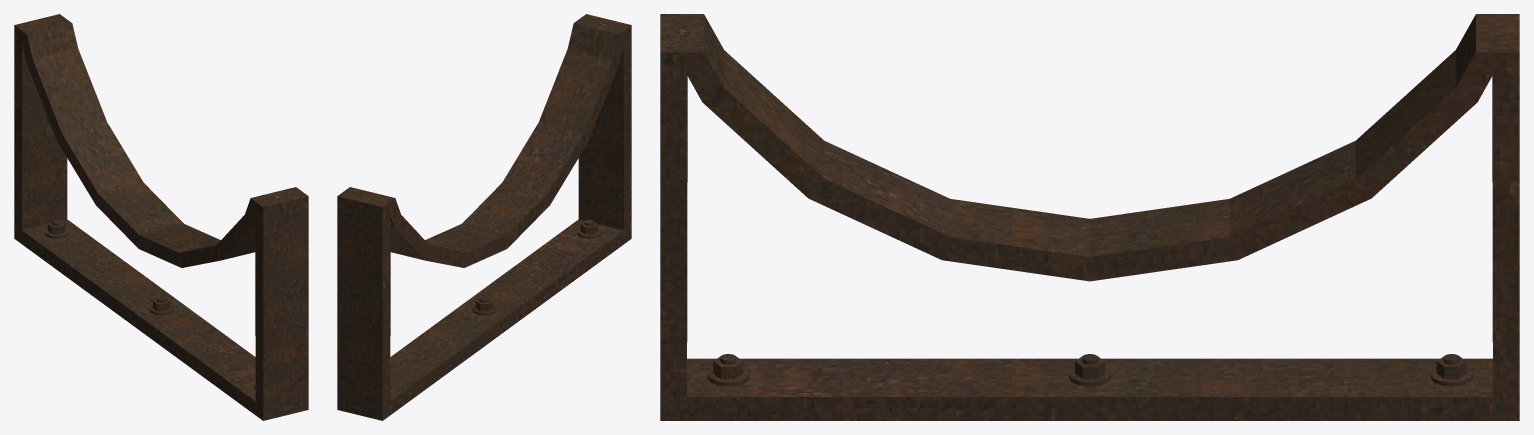
The model's file is stand_mx_1.glb.
3 renders of one model, left to right at view 1: azimuth 30°, elevation 25°; view 2: azimuth 150°, elevation 25°; view 3: azimuth 270°, elevation 25°, orthographic. The views are drawn at different scales.
Visible parts, largest first — view 1: stand_mx_1; view 2: stand_mx_1; view 3: stand_mx_1.
Part boxes in pixels (x1,y1,x2,y2): stand_mx_1: (14,14,308,420); stand_mx_1: (337,14,631,420); stand_mx_1: (660,14,1519,420).
Size of the model in its own units: 0.2 by 0.9 by 1.9.
1 material, 1 textured.
